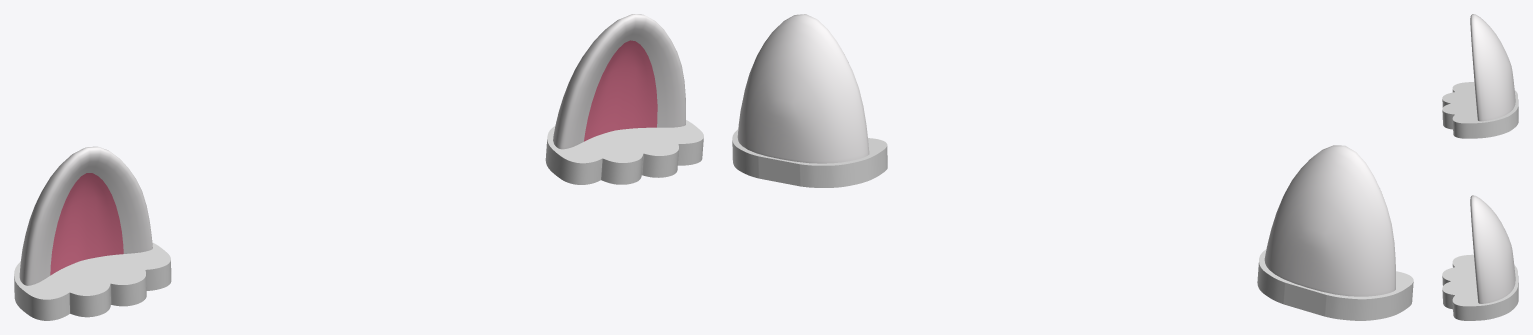
File: Tai2.glb
The picture shows the model from 3 angles, left to right: view 1: azimuth 30°, elevation 25°; view 2: azimuth 150°, elevation 25°; view 3: azimuth 270°, elevation 25°; orthographic projection. The views are drawn at different scales.
Visible parts, largest first — view 1: Plane.039, Plane.038; view 2: Plane.039, Plane.038; view 3: Plane.039, Plane.038.
Boxes of the visible parts, x1,y1,x2,y2 form: Plane.039: (19,14,685,285); Plane.038: (14,120,703,320); Plane.039: (737,14,1395,296); Plane.038: (732,129,1413,320); Plane.039: (1470,14,1515,303); Plane.038: (1442,82,1518,320).
Bounding box in the file's own units: 0.593 × 0.1271 × 0.0852.
